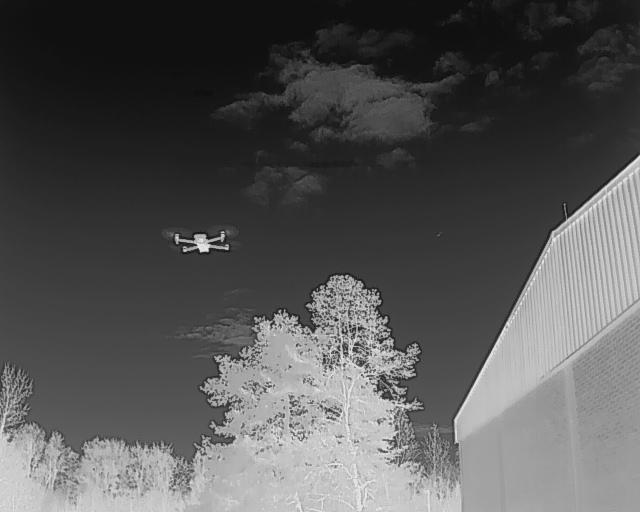drone: (163, 224, 236, 261)
